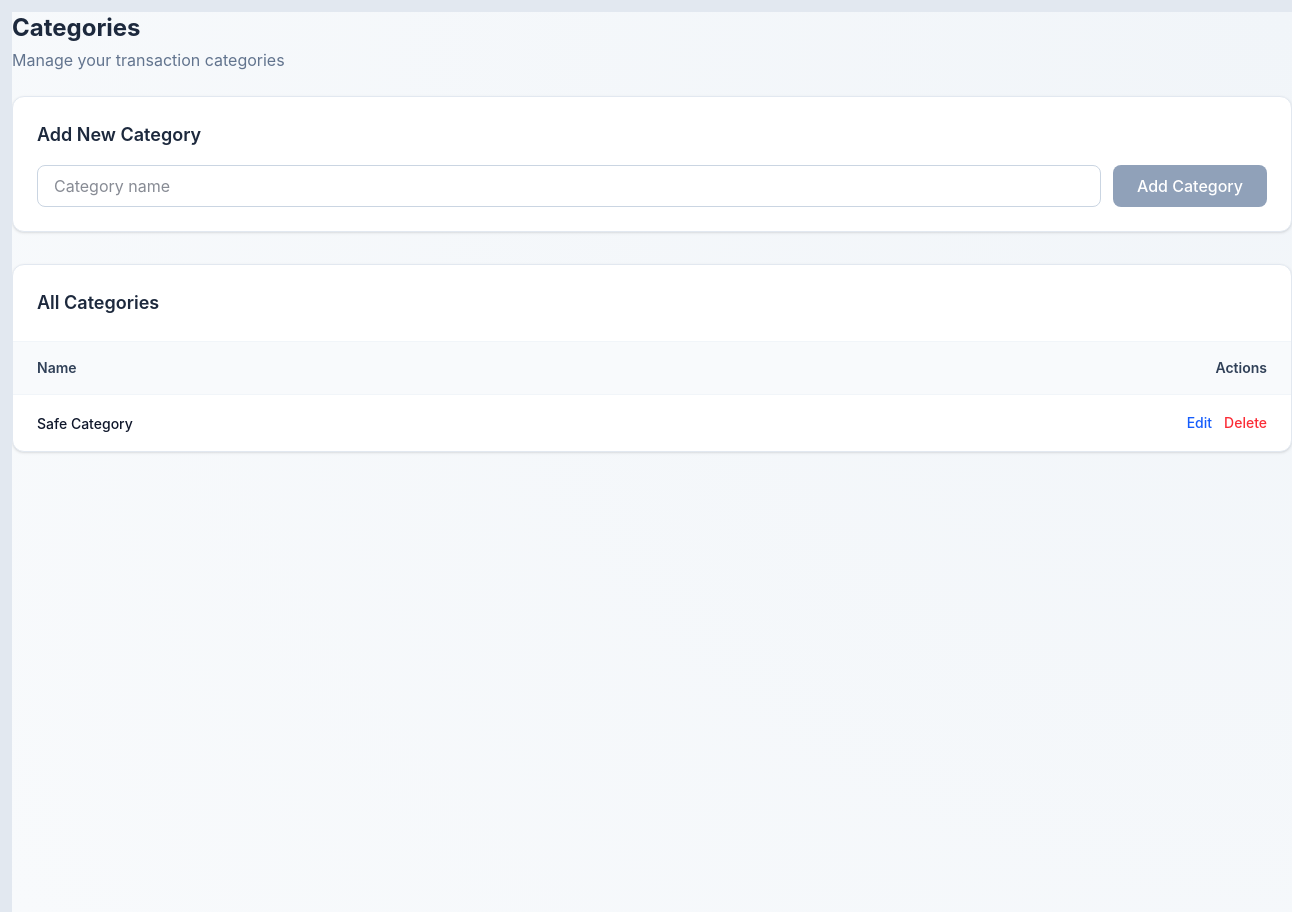
Test: Categories Component › cancels deletion when cancel is clicked
Note: Click Delete to show confirmation
Click the button "Delete" at [1246, 423], box top-left (1224, 413), bottom-right (1267, 433)
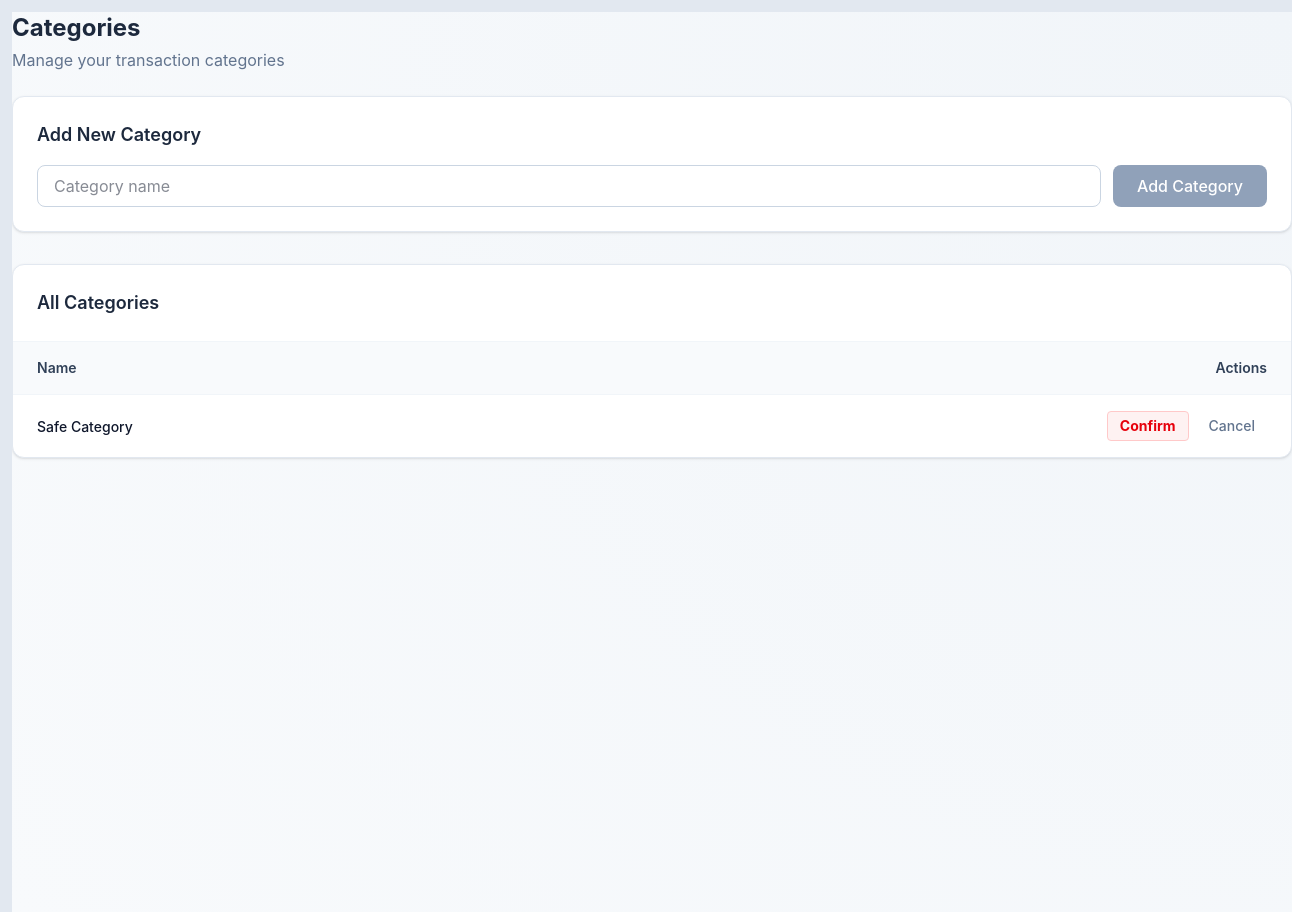
Note: Find and click Cancel
Click the button "Cancel" at [1232, 426], box top-left (1196, 411), bottom-right (1267, 441)
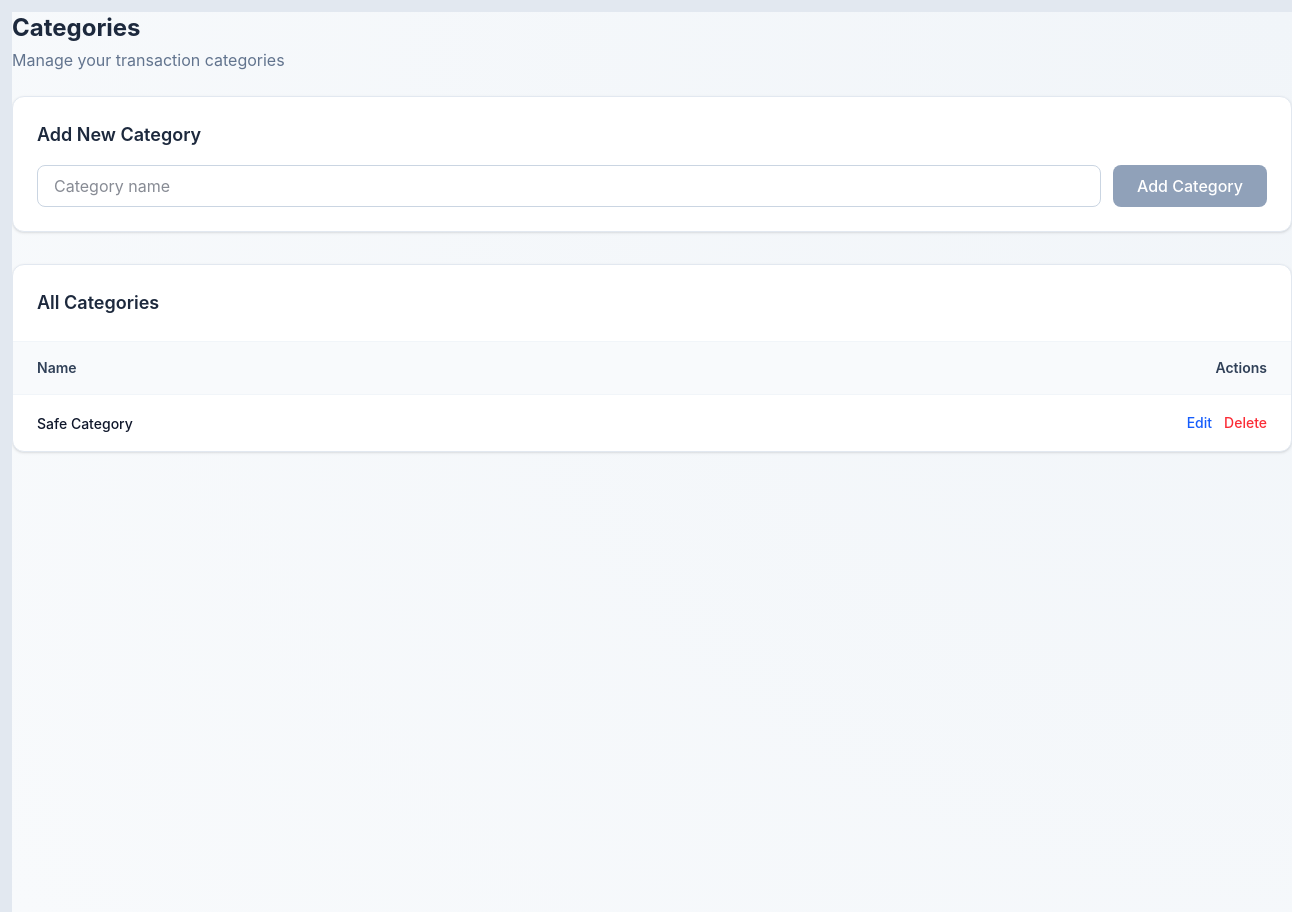
Expected: the text "Safe Category" is shown, top-left (37, 415), bottom-right (133, 432)
Now the button "Edit" is shown, box top-left (1187, 413), bottom-right (1212, 433)
